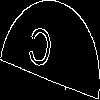C: (25, 24, 54, 78)
